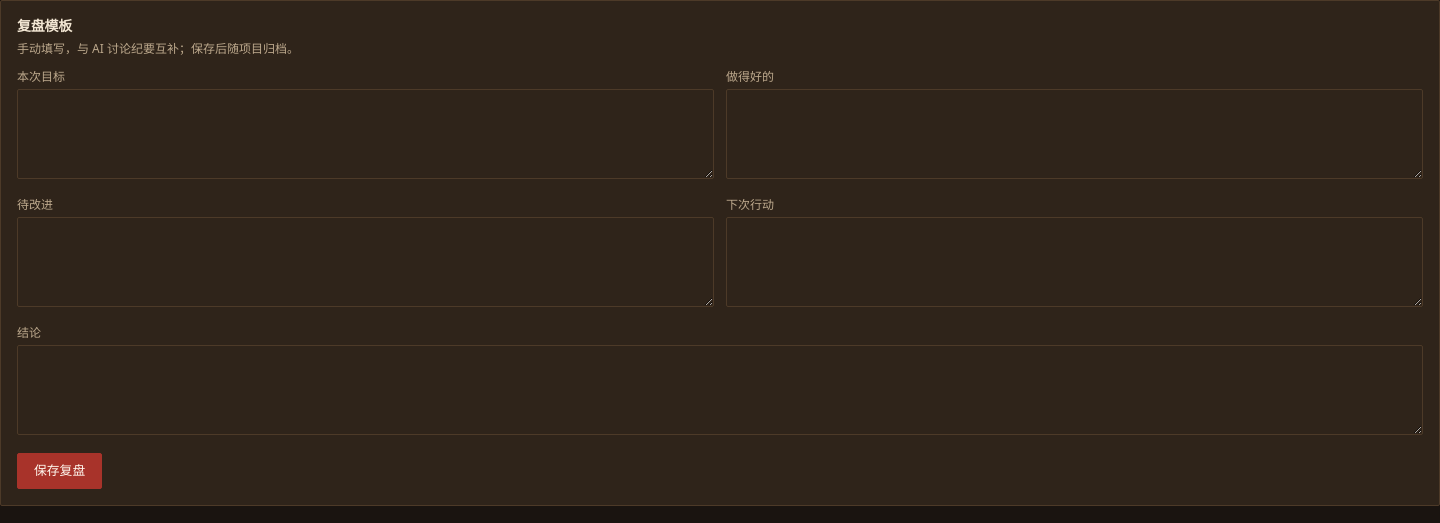
Scenario: ReviewTemplate › 填写后保存派发 setReview，含全部字段
Step 1. Type "走完开场走位" into the text box labelled "本次目标" → (366, 134), box [17,89,714,179]
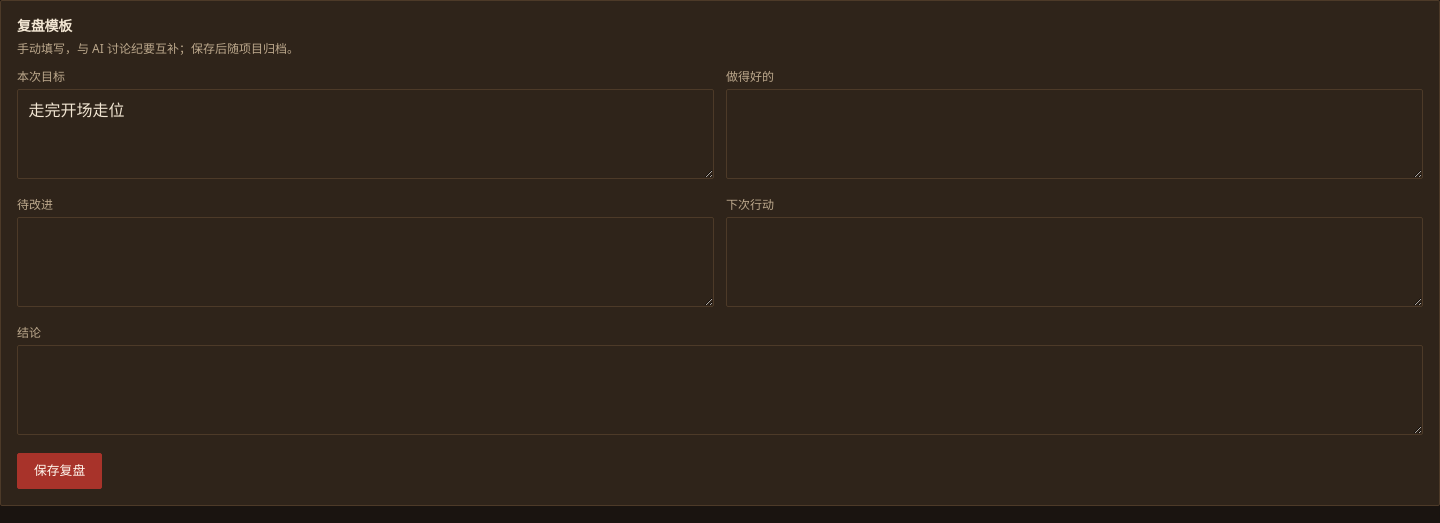
Step 2. Type "灯光切换偏慢" into the text box labelled "待改进" → (366, 262), box [17,217,714,307]
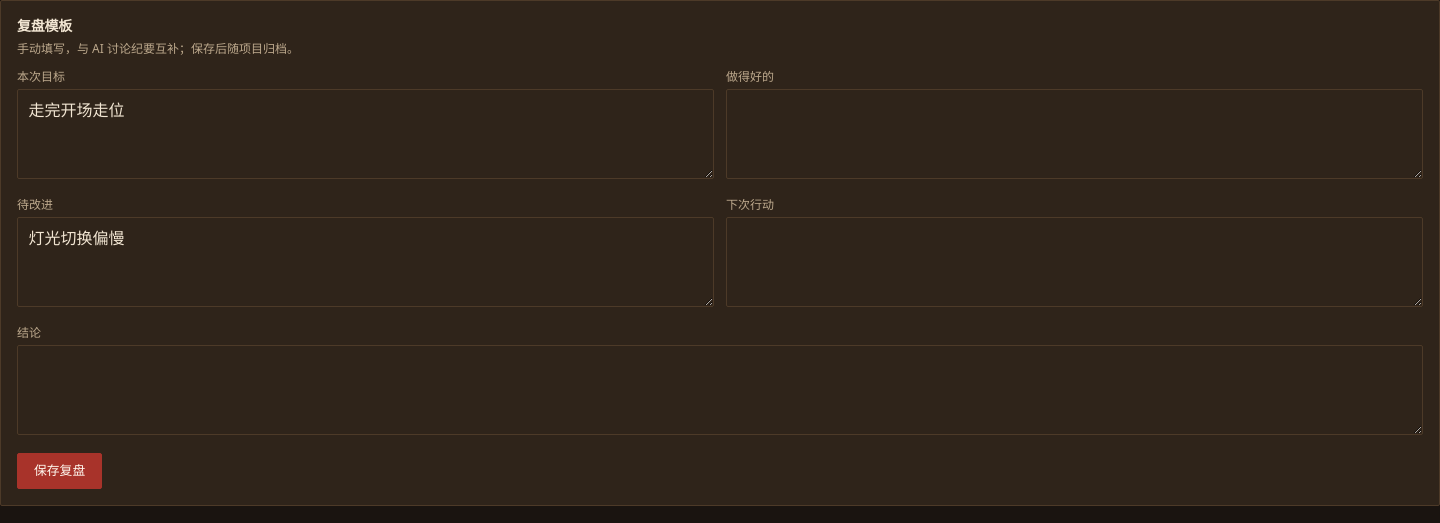
Step 3. Click the button "保存复盘" → (60, 471), box [17,453,102,489]
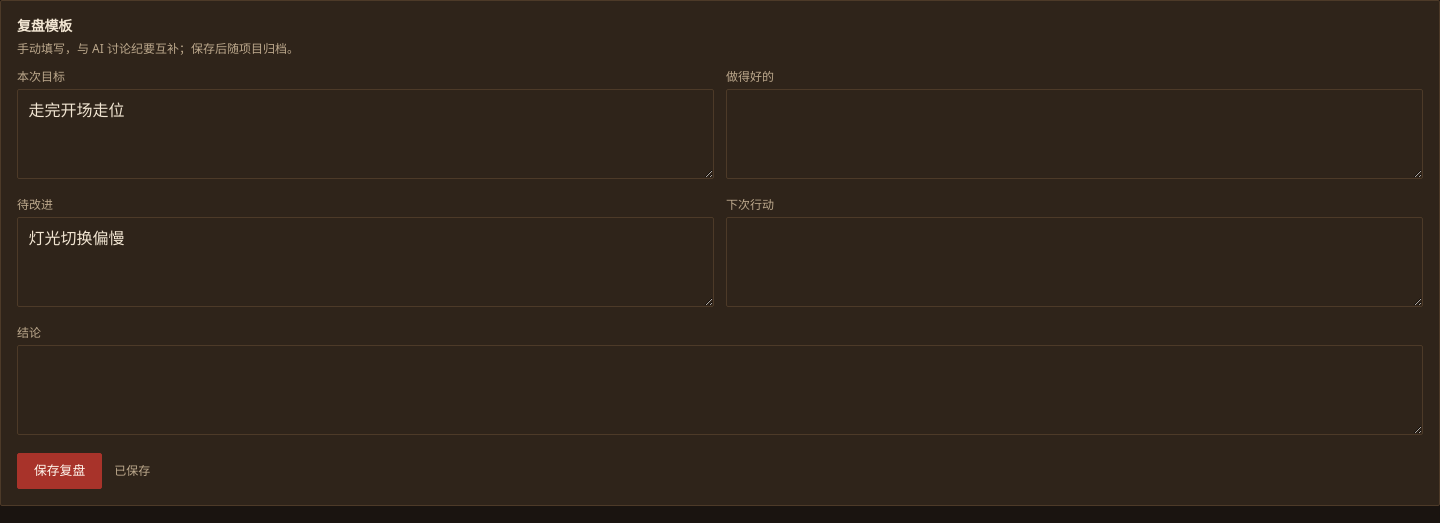
Expected: the text "已保存" is shown, [114,463,150,479]
